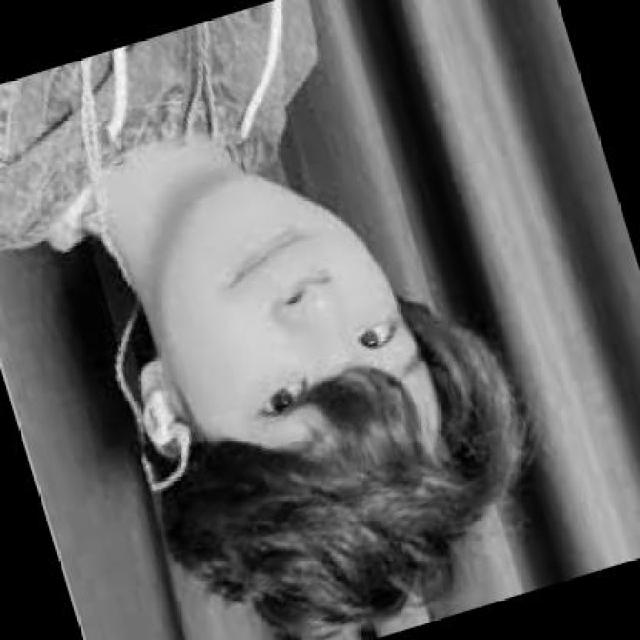earphone: (132, 386, 204, 480)
